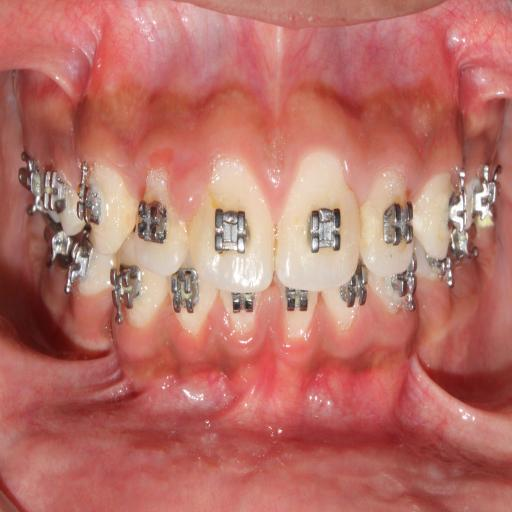correct_brace: (210, 200, 250, 260), (304, 202, 344, 254), (382, 192, 414, 255), (138, 193, 169, 244)
incorrect_brace: (133, 166, 188, 278), (359, 168, 415, 274)
